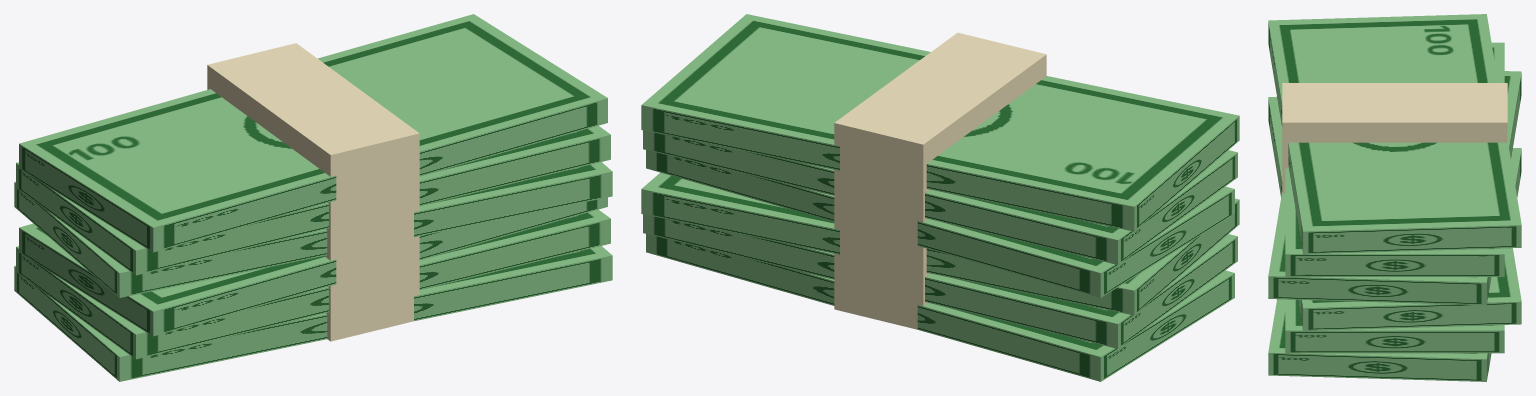
The model's file is cash_stack.glb.
3 views of the same model, side by side, from view 1: azimuth 30°, elevation 25°; view 2: azimuth 150°, elevation 25°; view 3: azimuth 270°, elevation 25° (orthographic). The views are drawn at different scales.
Visible parts, largest first — view 1: cash_stack; view 2: cash_stack; view 3: cash_stack.
Boxes of the visible parts, left/top/right/bottom form: cash_stack: left=14, top=14, right=612, bottom=381; cash_stack: left=641, top=14, right=1239, bottom=381; cash_stack: left=1268, top=14, right=1521, bottom=381.
Bounding box in the file's own units: 0.1645 × 0.06 × 0.081.
Materials: 2 (1 with a texture image).
